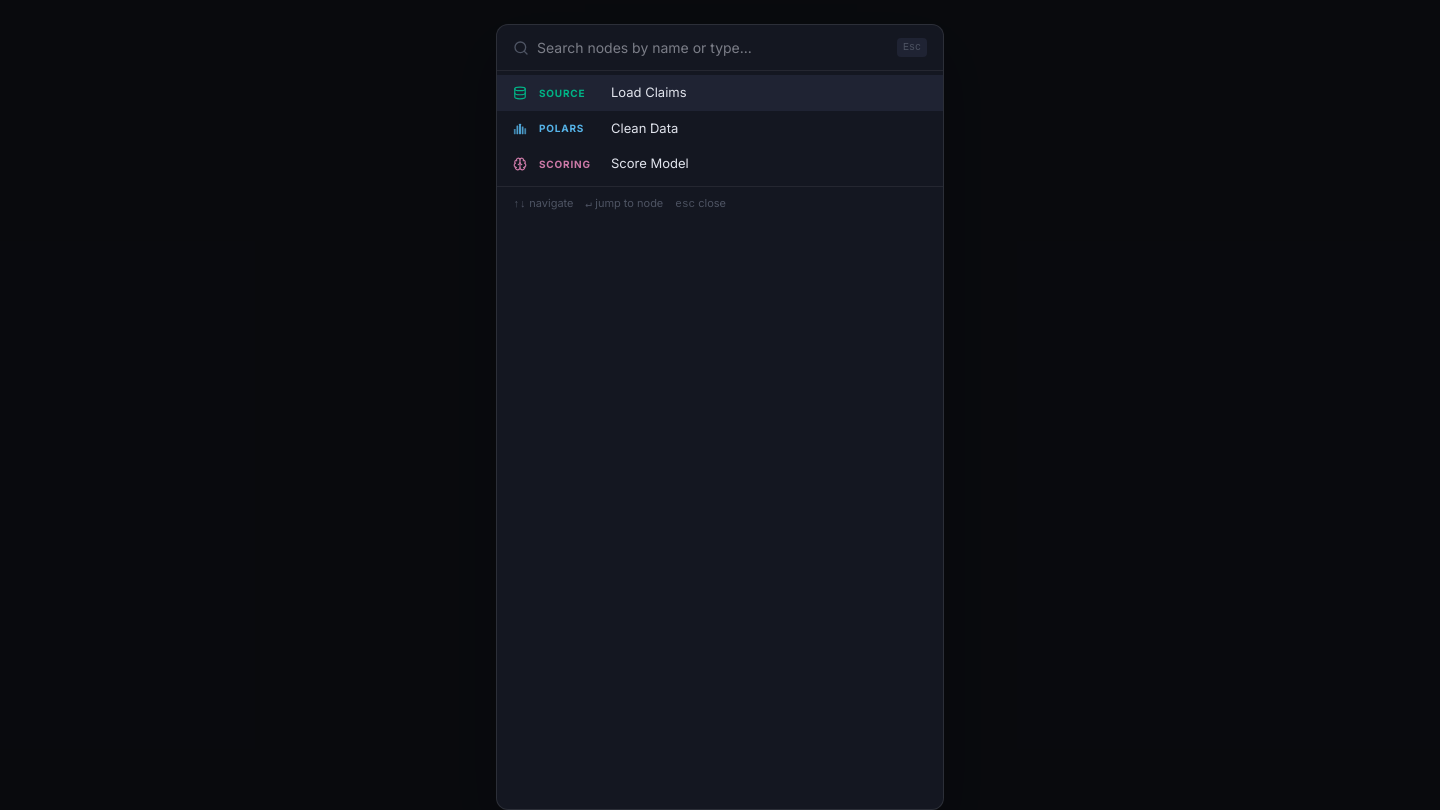
Test: NodeSearch › filters nodes by type name
This screenshot has width=1440, height=810.
Type "scoring" into the field with placeholder "Search nodes by name or type..." at [713, 48], box left=537, top=37, right=889, bottom=58
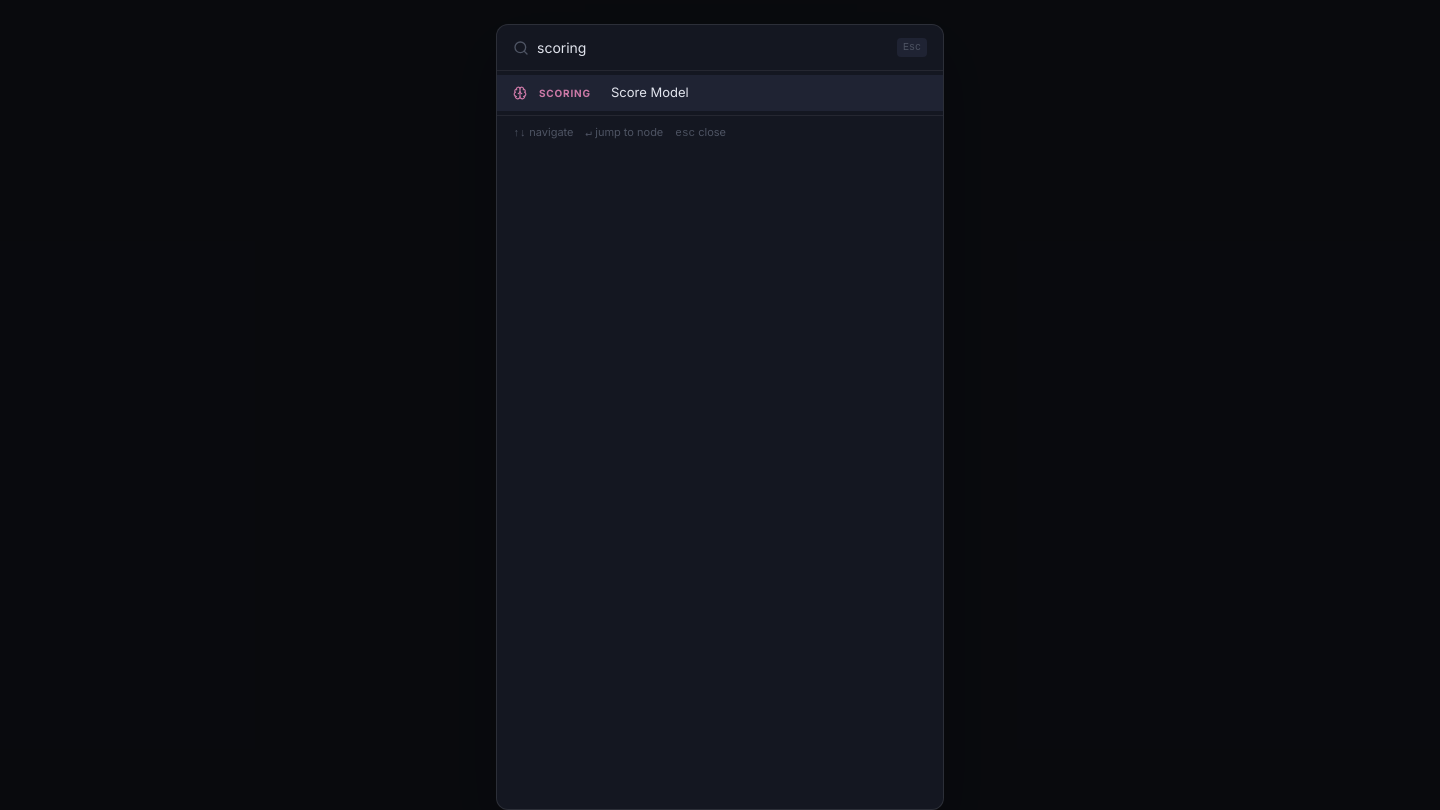
Expected: the text "Score Model" is shown, left=611, top=83, right=689, bottom=103
Expected: the option "Load Claims" is gone
